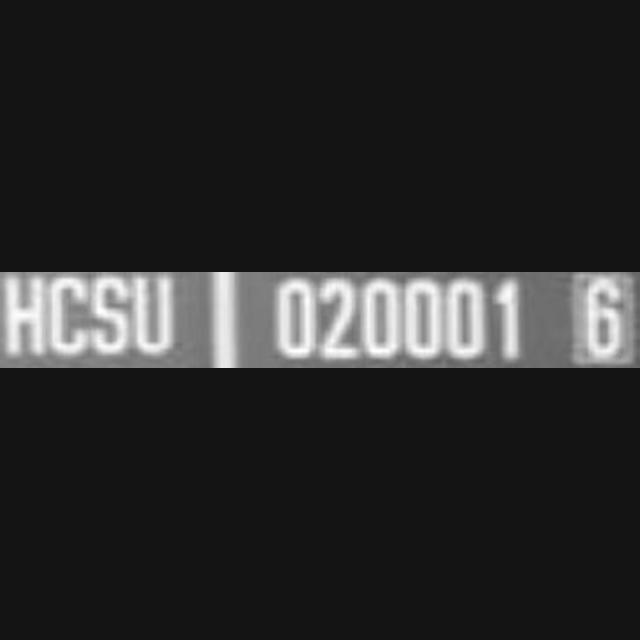0: (402, 272, 446, 368), (444, 272, 488, 368), (360, 272, 402, 368), (276, 274, 320, 364)
1: (490, 272, 528, 368)
2: (319, 272, 361, 366)
6: (579, 276, 629, 362)
c: (48, 272, 92, 366)
h: (0, 272, 48, 368)
s: (91, 272, 133, 360)
u: (132, 272, 178, 360)
